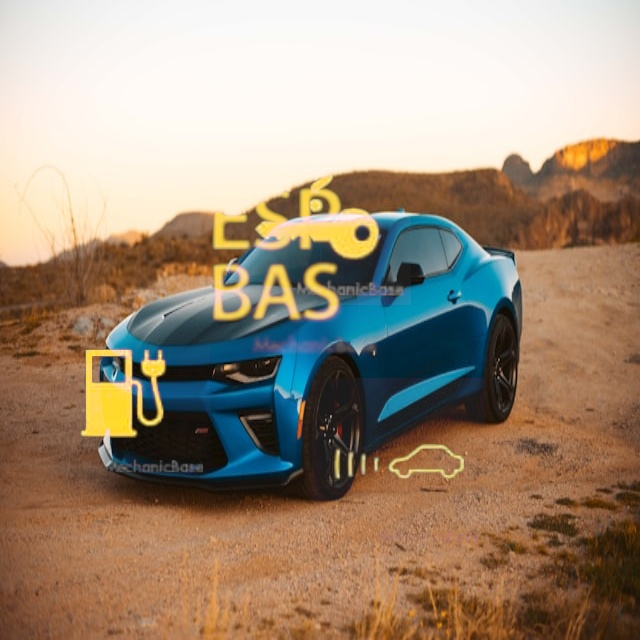symbol: (170, 149, 384, 363), (222, 116, 411, 305), (312, 378, 485, 551), (37, 308, 210, 481)
